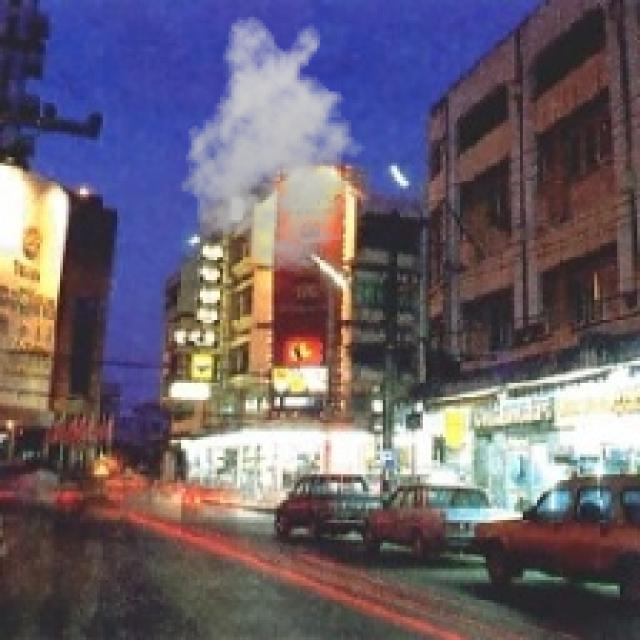smoke: (174, 14, 374, 274)
